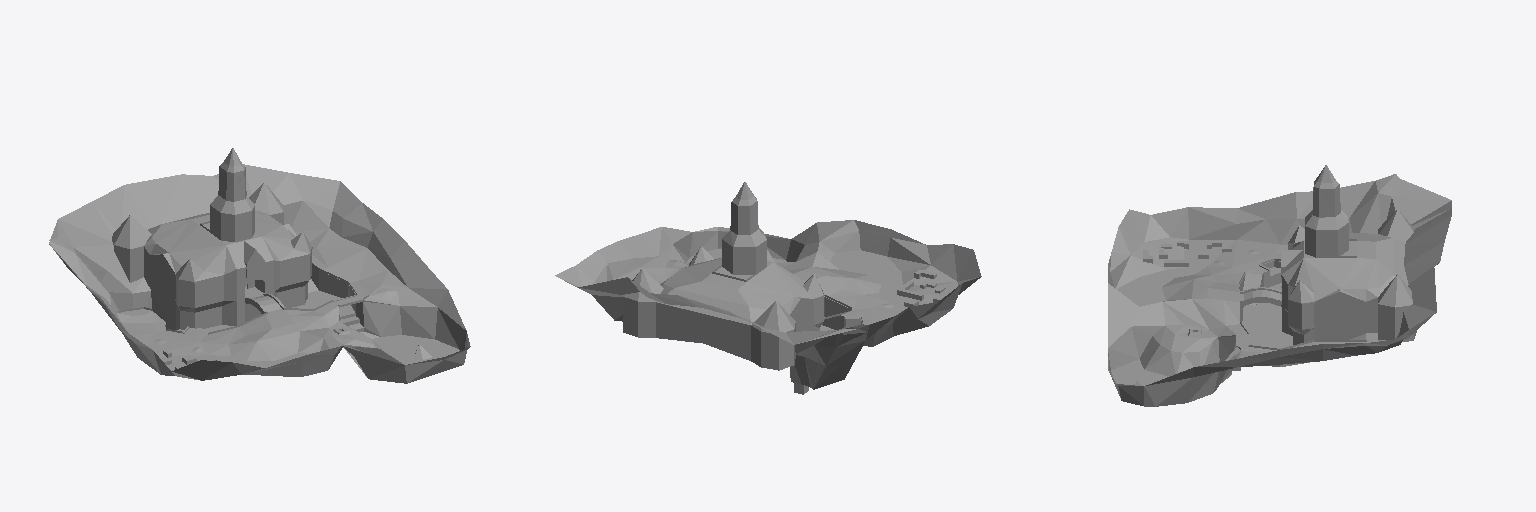
File: peach_castle.obj
3 views of the same model, side by side, from view 1: azimuth 30°, elevation 25°; view 2: azimuth 150°, elevation 25°; view 3: azimuth 270°, elevation 25° (orthographic).
Parts seen in each view (by area): view 1: r0-node_r0-mesh.021; view 2: r0-node_r0-mesh.021; view 3: r0-node_r0-mesh.021.
Part boxes in pixels (x1,y1,x2,y2): r0-node_r0-mesh.021: (49,148,470,383); r0-node_r0-mesh.021: (555,182,981,394); r0-node_r0-mesh.021: (1108,165,1451,406).
Size of the model in its own units: 16 by 9.43 by 16.